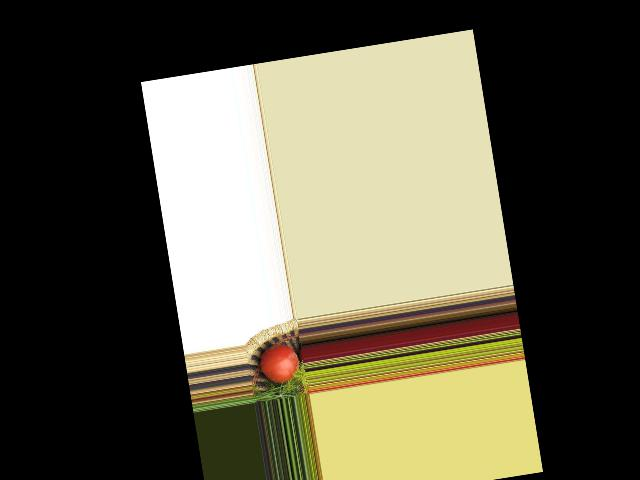tomato: (257, 342, 301, 386)
